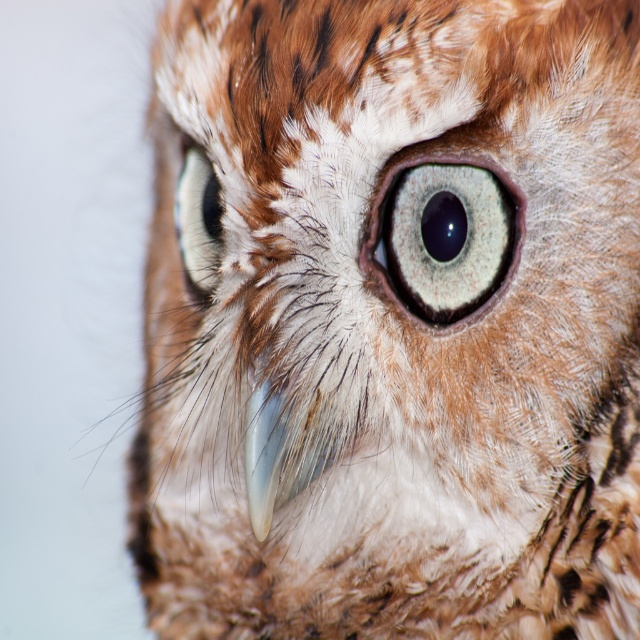Owl: (80, 0, 640, 637)
